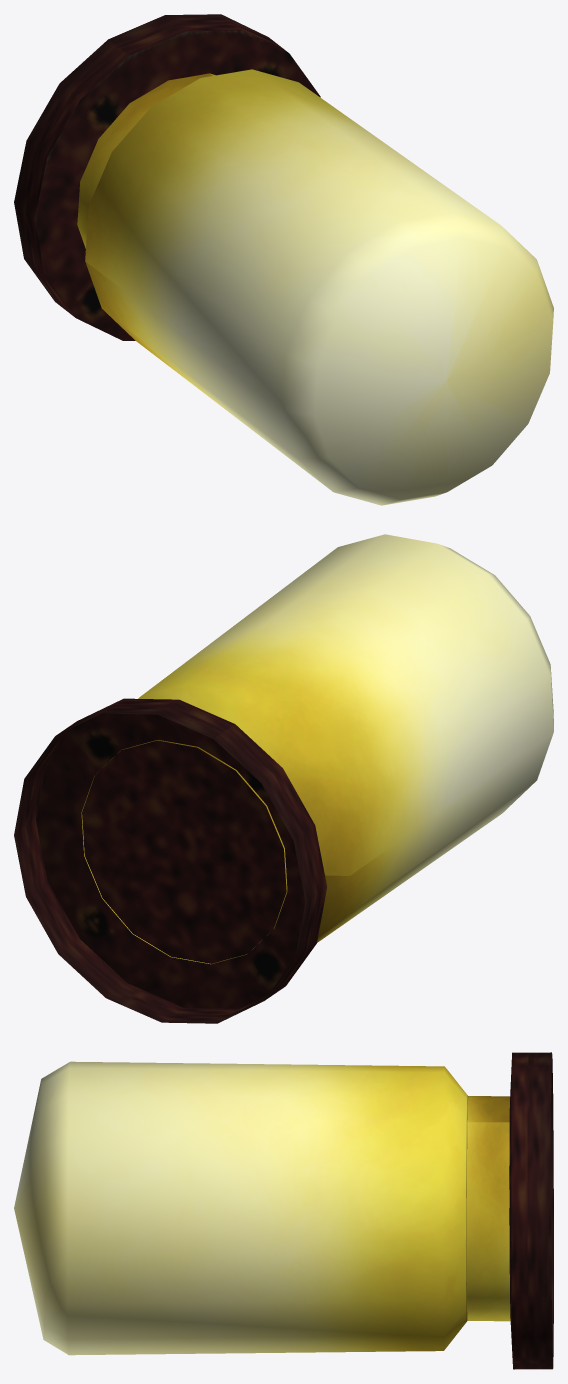
File: Lamp_cylindr.FBX
The picture shows the model from 3 angles, top to bottom: view 1: azimuth 30°, elevation 25°; view 2: azimuth 150°, elevation 25°; view 3: azimuth 270°, elevation 25°; orthographic projection. The views are drawn at different scales.
Parts seen in each view (by area): view 1: Lamp_cylindr; view 2: Lamp_cylindr; view 3: Lamp_cylindr.
Boxes of the visible parts, <box> form: Lamp_cylindr: <box>14,14,553,505</box>; Lamp_cylindr: <box>14,534,553,1023</box>; Lamp_cylindr: <box>14,1052,553,1369</box>.
Size of the model in its own units: 0.2364 by 0.2364 by 0.4016.
